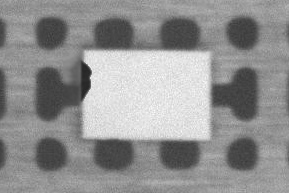DIE_BROKEN: (117, 38, 141, 67)
